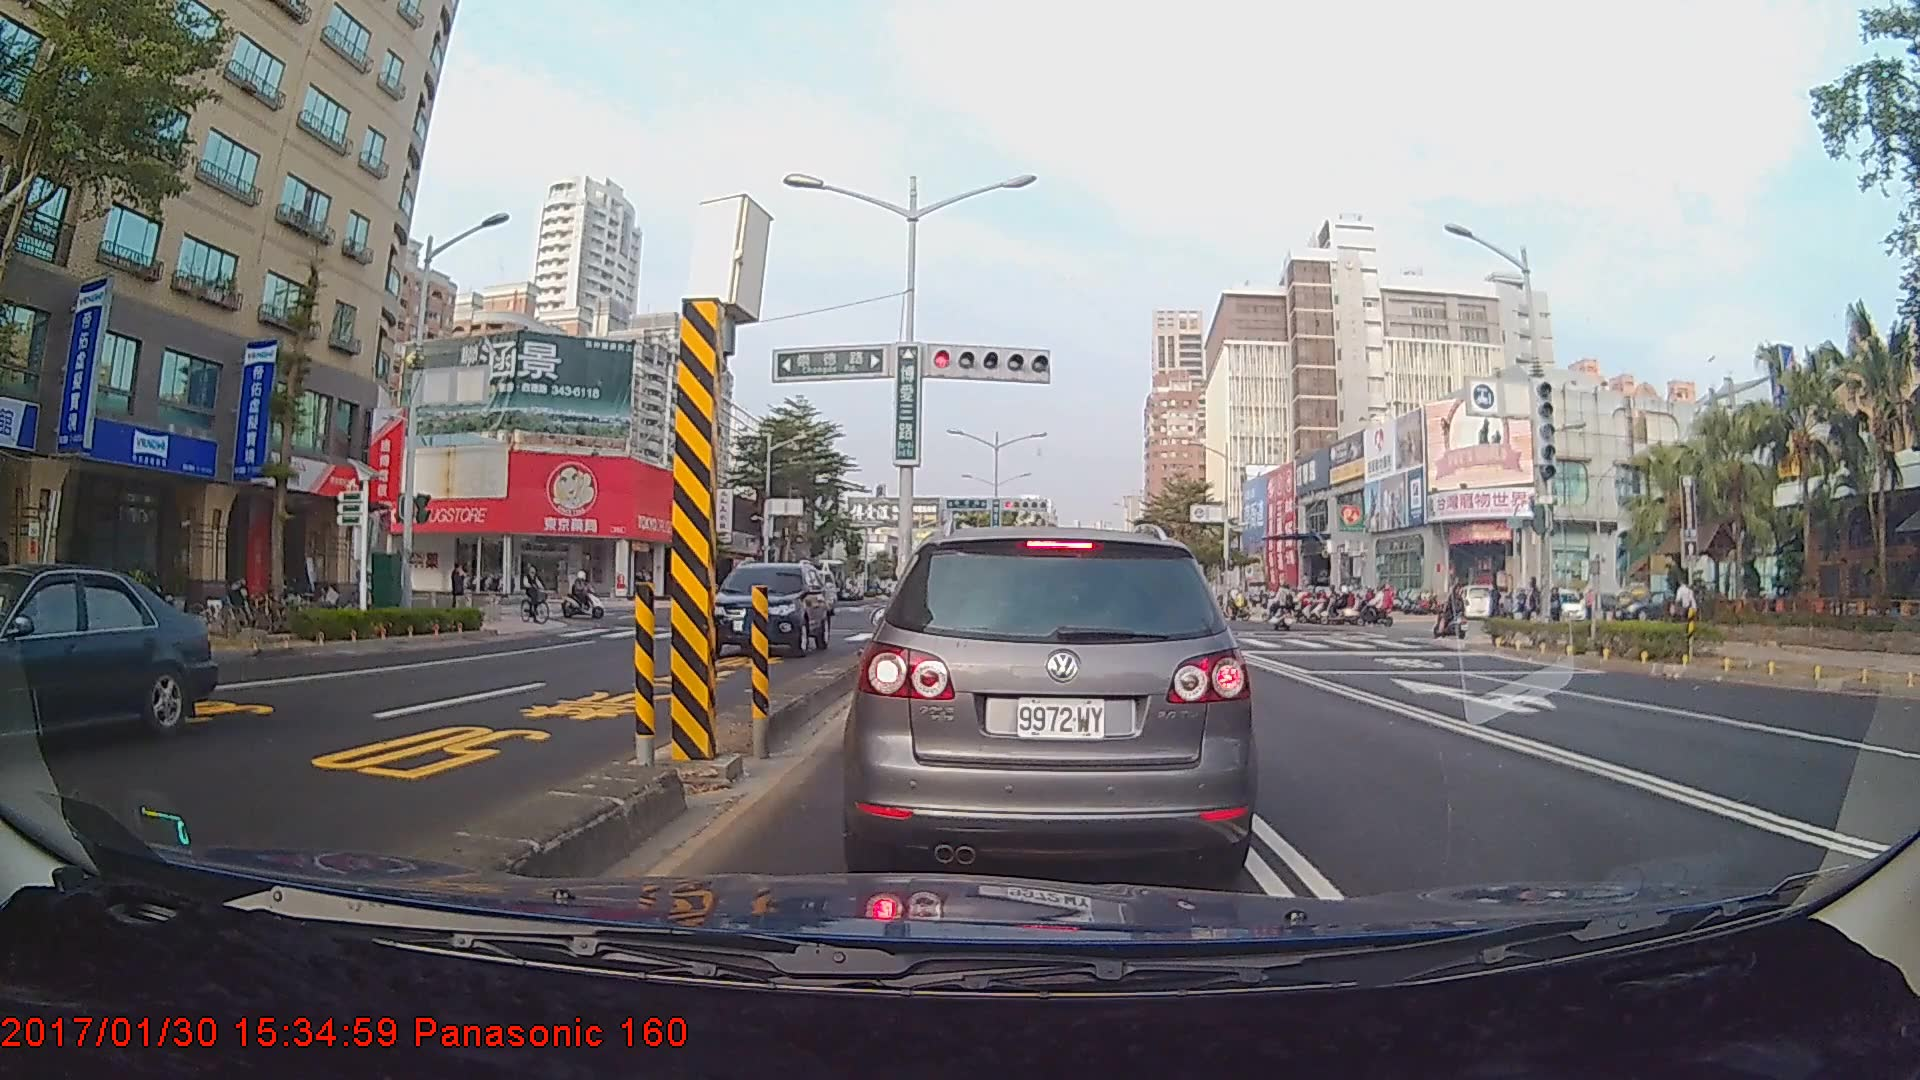pedestrian: (1673, 577, 1698, 634), (447, 563, 467, 620)
rider: (562, 566, 609, 619), (1434, 584, 1472, 639), (522, 566, 551, 627), (1267, 588, 1304, 633)
vehicle: (839, 512, 1259, 878), (0, 561, 218, 767), (705, 558, 830, 656)
